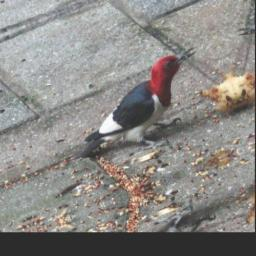Woodpecker: (49, 39, 229, 184)
